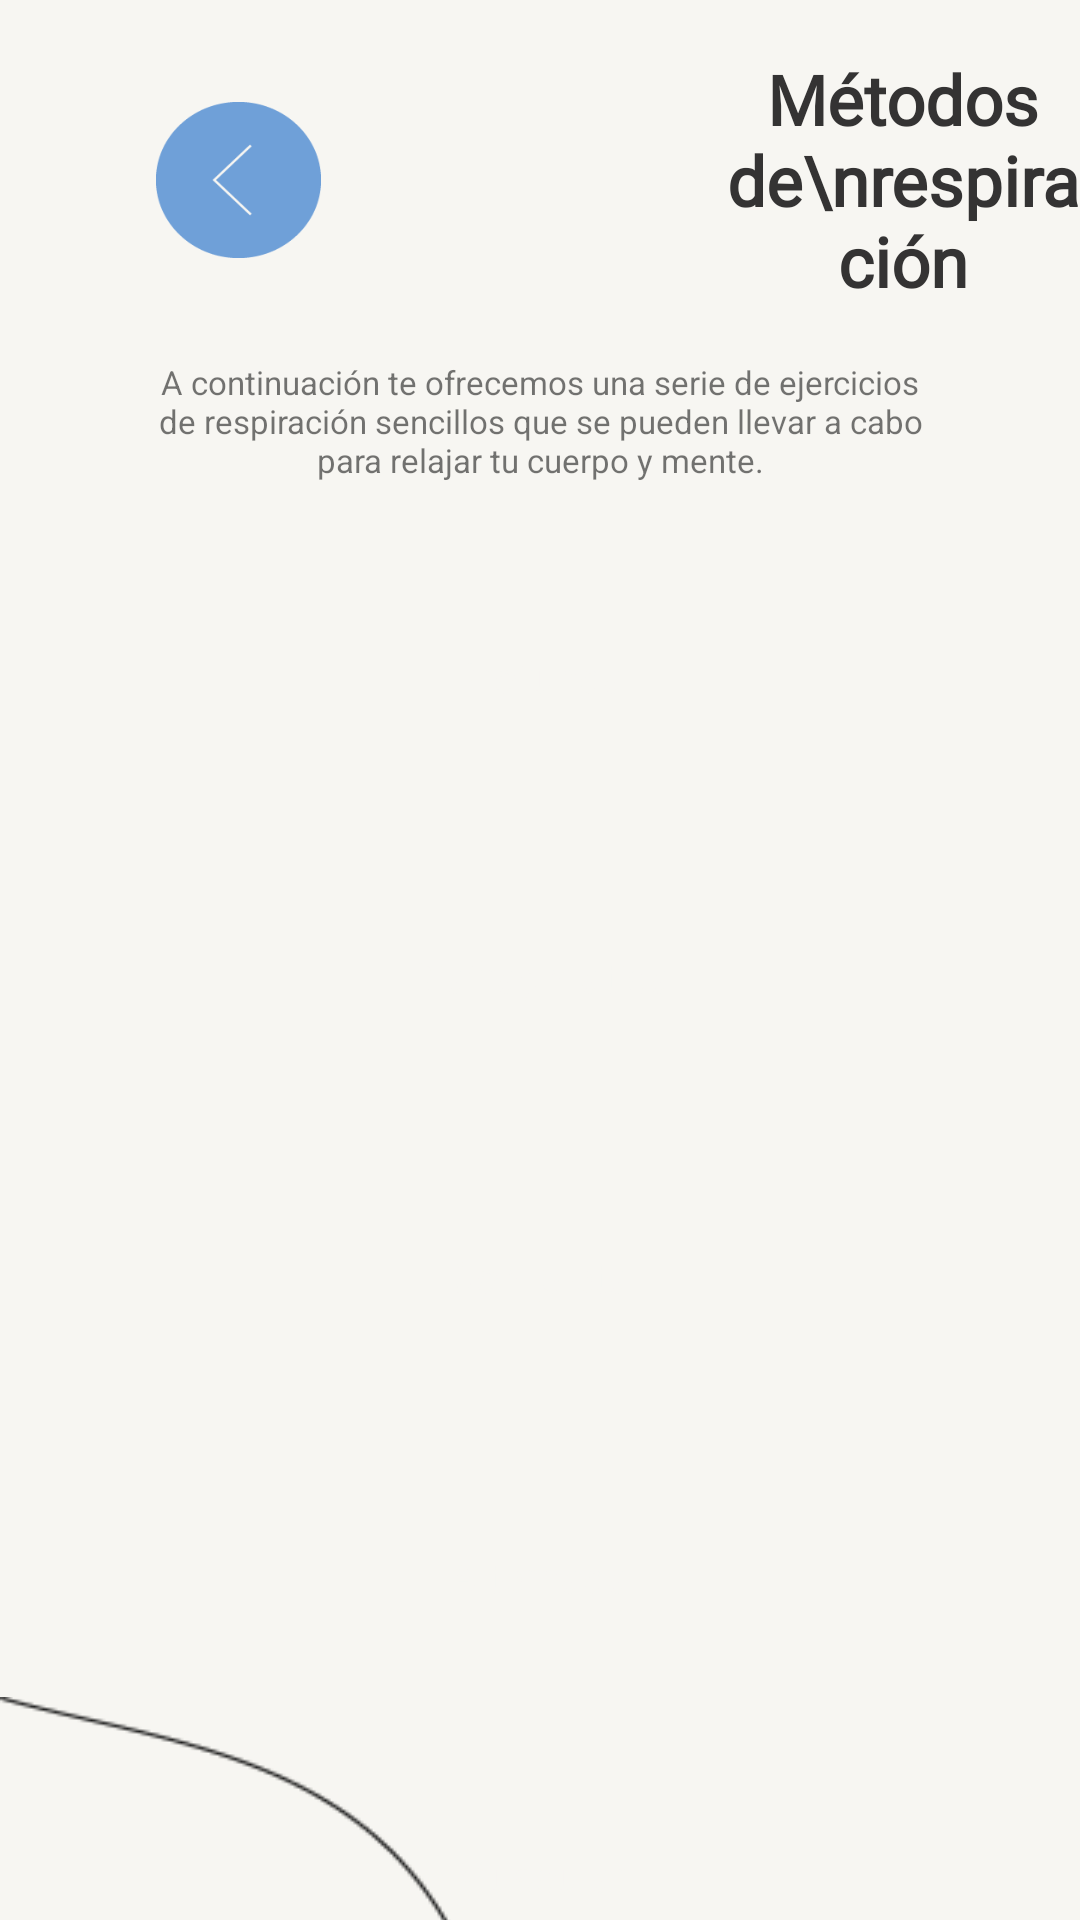

Point at icon controls on the screen. Image size 1080×1920, points as (x,y).
regresar xxxdpi: (238,180)
